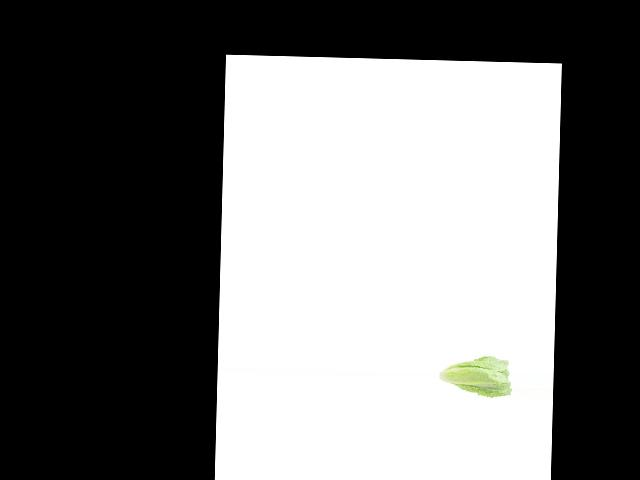lettuce: (439, 349, 512, 400)
